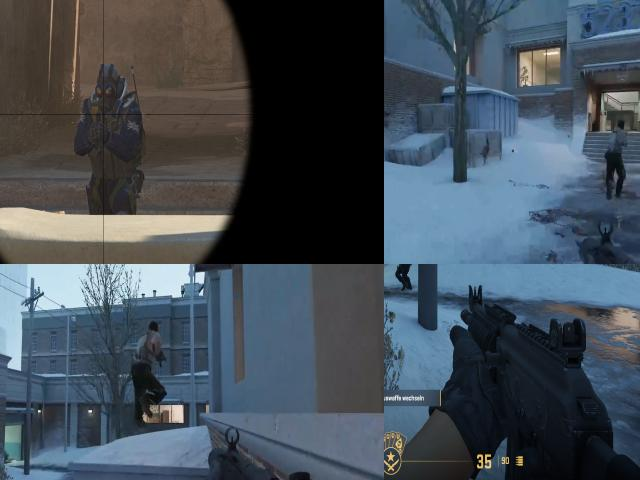CT: (86, 62, 136, 215), (393, 264, 412, 287)
CT-Head: (96, 64, 122, 98)
T: (606, 116, 632, 162), (134, 337, 160, 372)
T-Head: (141, 321, 162, 340), (615, 116, 629, 136)
